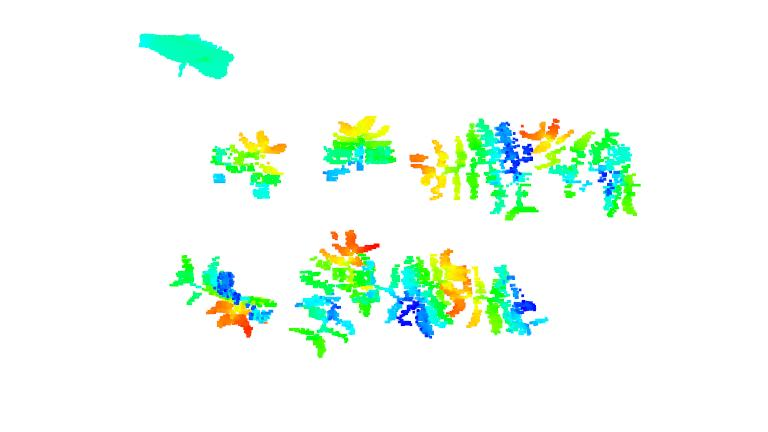chickpea: (409, 116, 536, 224), (285, 228, 382, 361), (516, 118, 642, 220), (165, 253, 278, 340), (382, 247, 470, 337), (466, 262, 551, 342), (207, 126, 289, 202), (317, 113, 399, 183)
